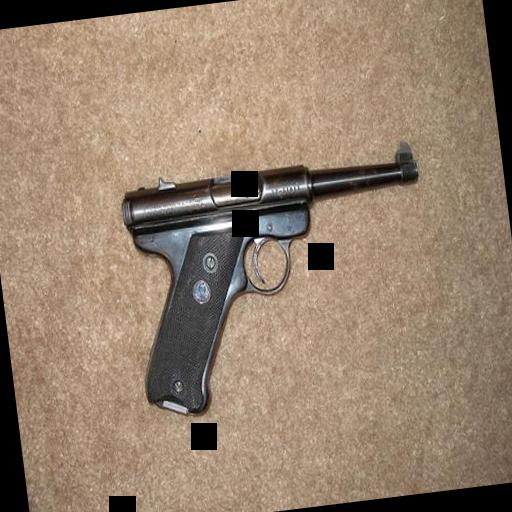Handgun: (112, 140, 444, 416)
